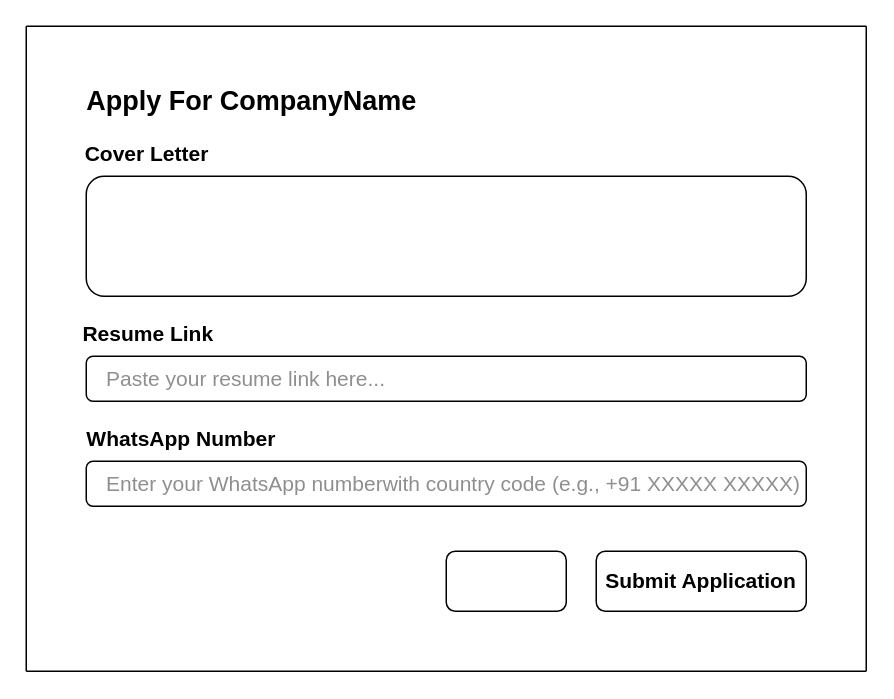
The diagram is 894 pixels wide and 699 high, and some of its shapes have lost their labels. The box of each missing label's shape, as (x1, y1, x2, y2) in pixels:
Cancel: (445, 550, 566, 611)
Write a brief letter explaining why you're interested in this opportunity: (85, 175, 806, 296)
